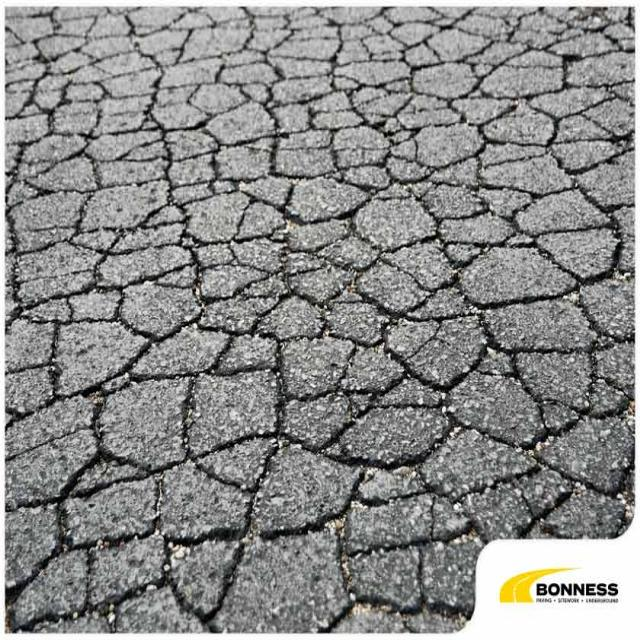Drain Hole: (5, 4, 508, 557)
